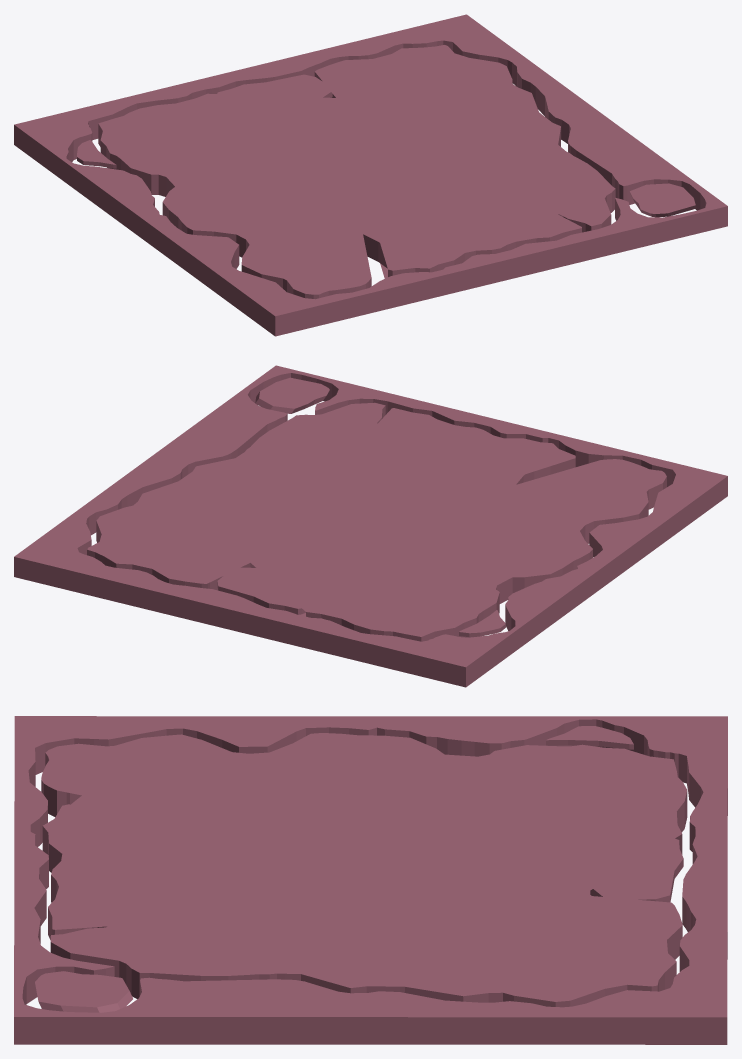
The picture shows the model from 3 angles, top to bottom: view 1: azimuth 30°, elevation 25°; view 2: azimuth 150°, elevation 25°; view 3: azimuth 270°, elevation 25°; orthographic projection. The views are drawn at different scales.
Parts seen in each view (by area): view 1: floor; view 2: floor; view 3: floor.
Boxes of the visible parts, <box> form: floor: <box>14,14,727,336</box>; floor: <box>14,365,727,687</box>; floor: <box>14,716,727,1044</box>.
Bounding box in the file's own units: 16690 × 713 × 16723.
